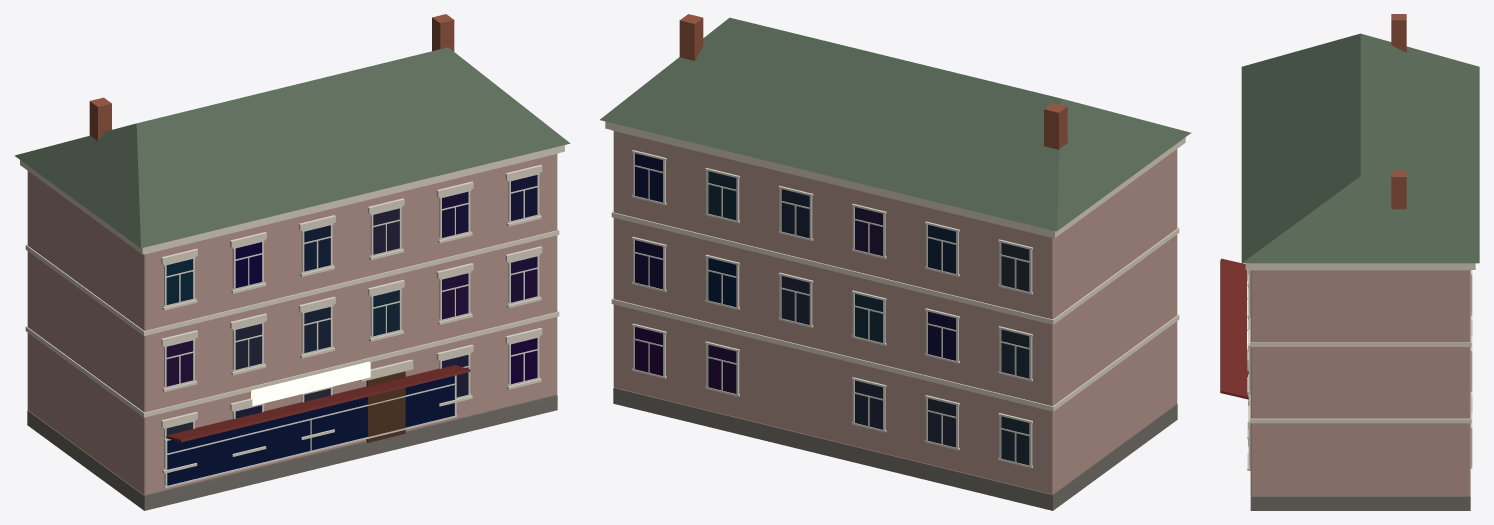
Rendered from old_d.glb.
The picture shows the model from 3 angles, left to right: view 1: azimuth 30°, elevation 25°; view 2: azimuth 150°, elevation 25°; view 3: azimuth 270°, elevation 25°; orthographic projection. The views are drawn at different scales.
Parts seen in each view (by area): view 1: old_d; view 2: old_d; view 3: old_d.
Part boxes in pixels (box(x1,y1,x2,y2)): old_d: box(14, 14, 570, 510); old_d: box(600, 14, 1191, 510); old_d: box(1220, 14, 1479, 510).
Size of the model in its own units: 18.2 by 13.85 by 10.13.
